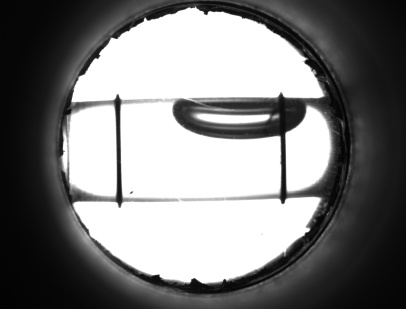line: (109, 112, 127, 191), (276, 142, 291, 186)
